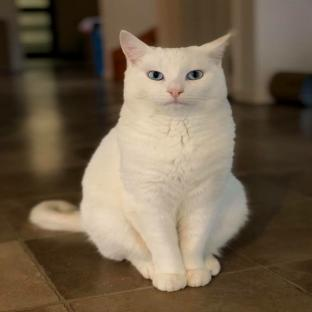Animal: (29, 30, 249, 292)
